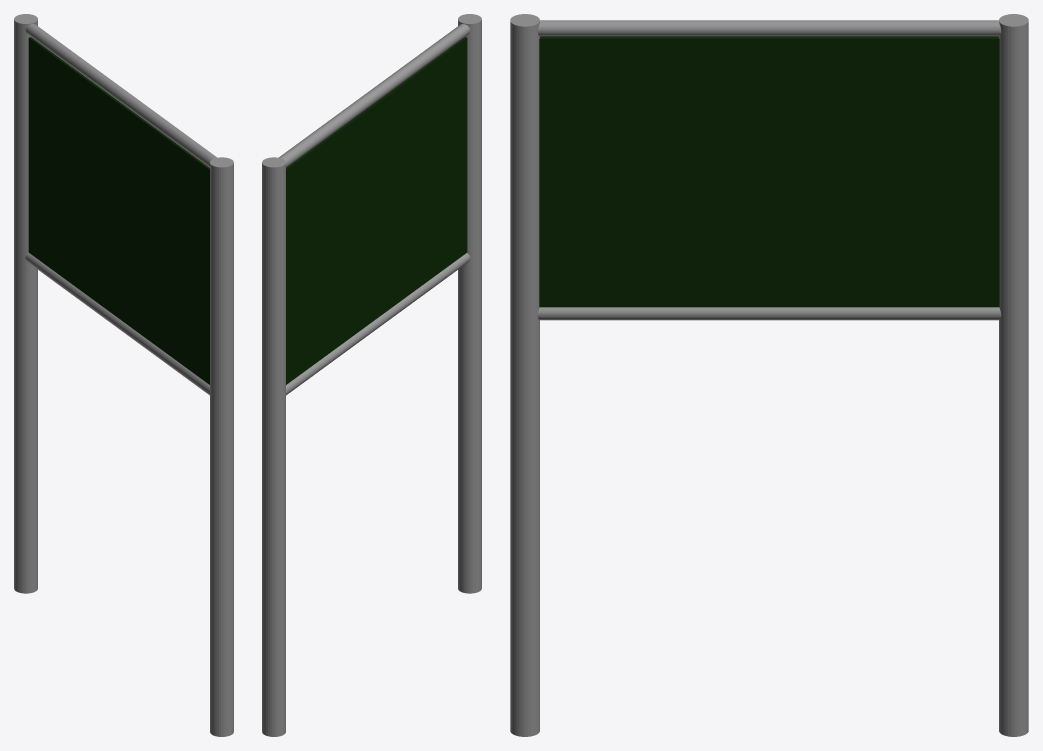
File: 警示牌2.gltf
The picture shows the model from 3 angles, left to right: view 1: azimuth 30°, elevation 25°; view 2: azimuth 150°, elevation 25°; view 3: azimuth 270°, elevation 25°; orthographic projection. The views are drawn at different scales.
Parts seen in each view (by area): view 1: Cube, 柱体, 柱体.001, 柱体.002, 柱体.003; view 2: Cube, 柱体.001, 柱体, 柱体.002, 柱体.003; view 3: Cube, 柱体, 柱体.001, 柱体.002, 柱体.003.
Boxes of the visible parts, x1,y1,x2,y2 form: Cube: (28,37,209,384); 柱体: (210,157,233,736); 柱体.001: (14,14,37,593); 柱体.002: (25,24,216,167); 柱体.003: (25,253,209,395); Cube: (286,37,467,384); 柱体.001: (262,157,285,736); 柱体: (458,14,481,593); 柱体.002: (279,24,470,167); 柱体.003: (286,253,470,395); Cube: (539,36,999,307); 柱体: (510,14,539,736); 柱体.001: (999,14,1028,736); 柱体.002: (537,20,1001,36); 柱体.003: (537,307,1001,320).
Bounding box in the file's own units: 0.1915 × 5.02 × 3.32.
